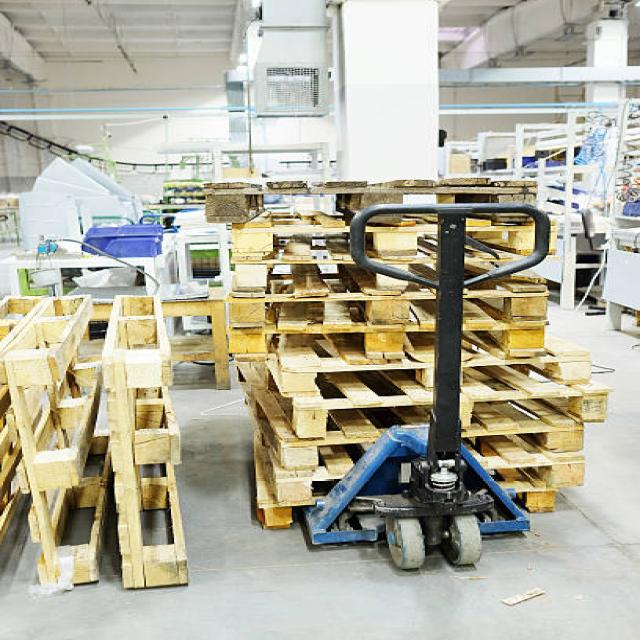Wooden-Pallets: (7, 287, 101, 593), (110, 290, 197, 601), (271, 348, 592, 400), (199, 176, 554, 221)
